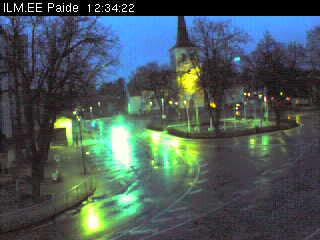car: (110, 124, 132, 144)
